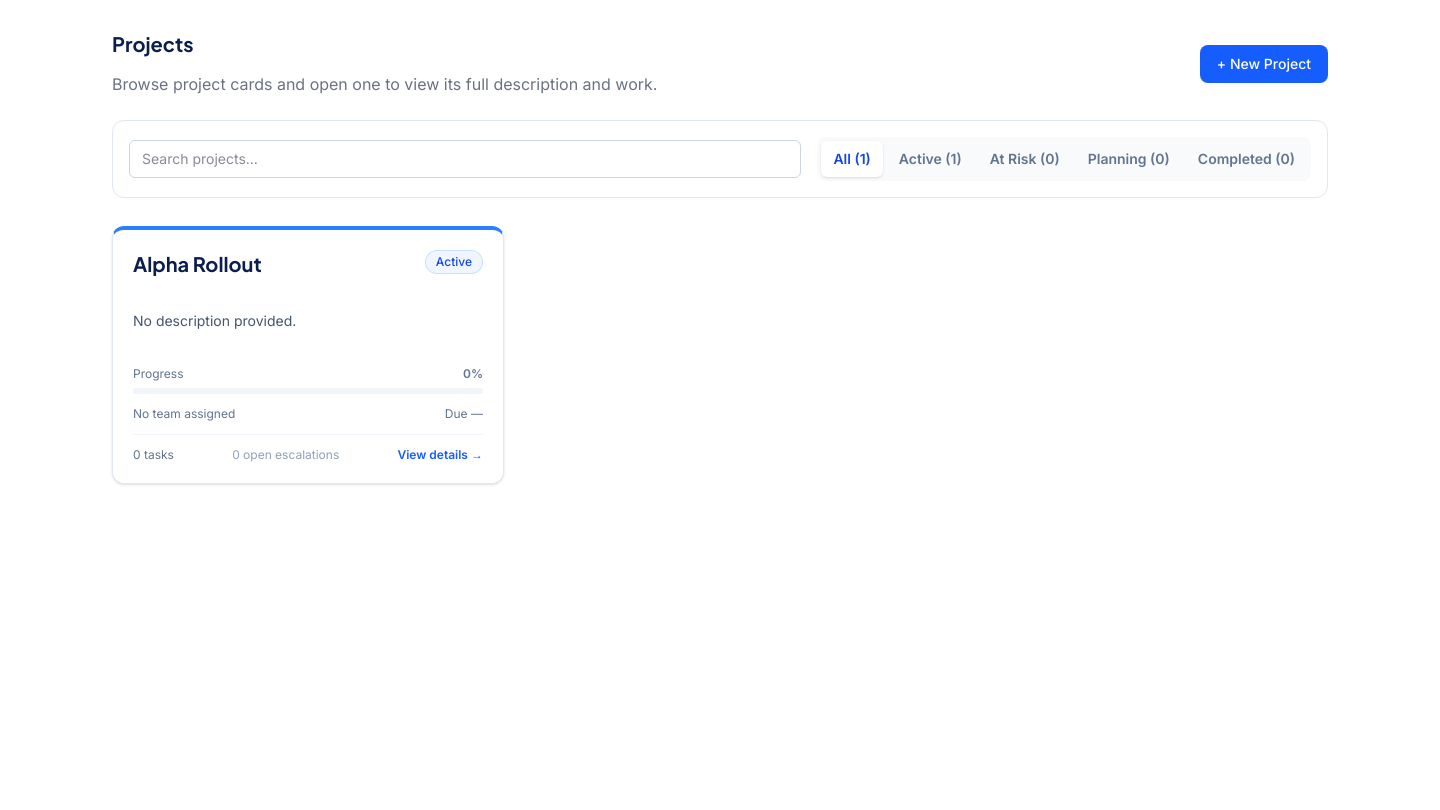
Test: PM Projects: create project, then start its workflow › creates a project without a template and never starts a workflow
Click the button "+ New Project" at (1264, 64), box [1200,45,1328,83]
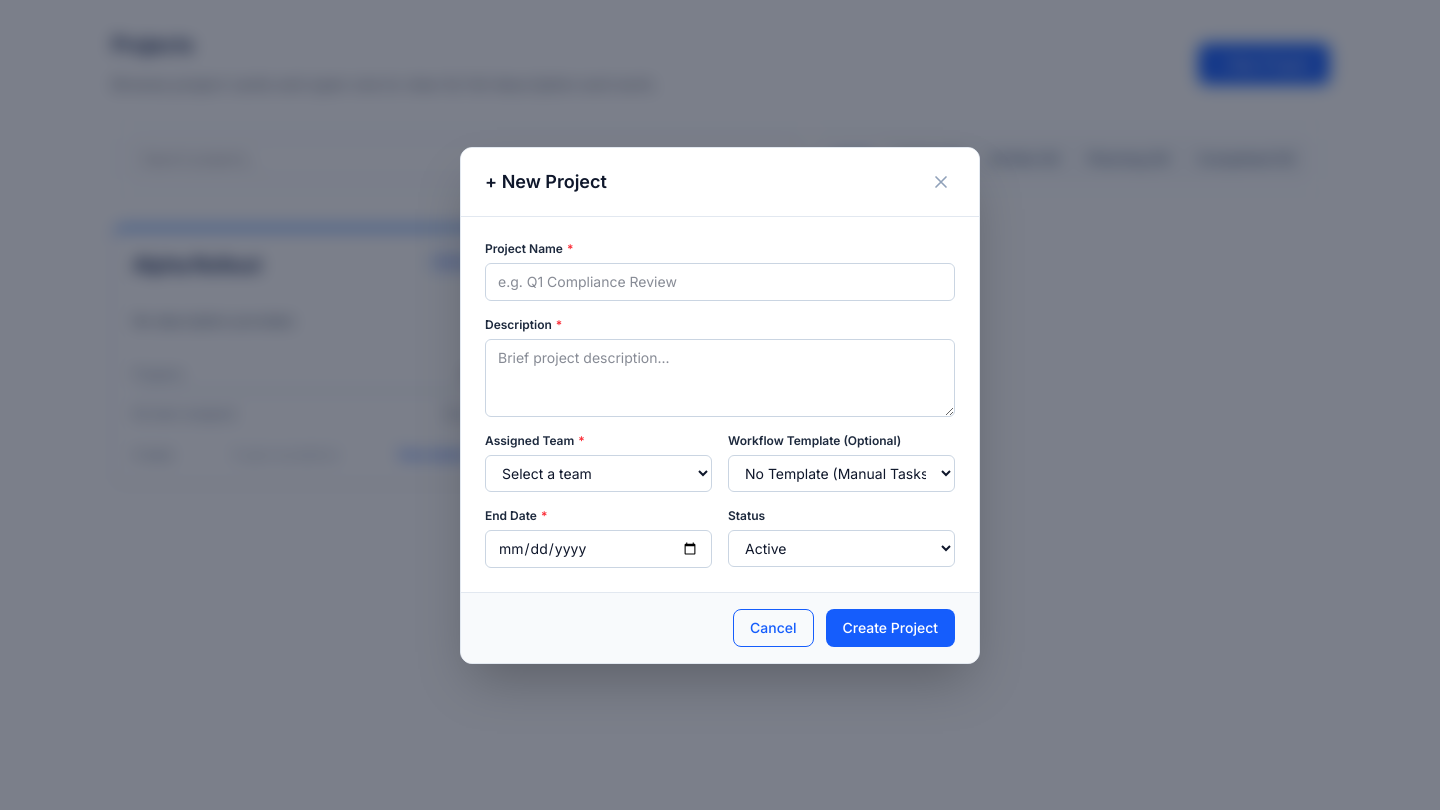
Type "Beta Launch" into the field with placeholder "e.g. Q1 Compliance Review" at (720, 282), box [485,262,955,300]
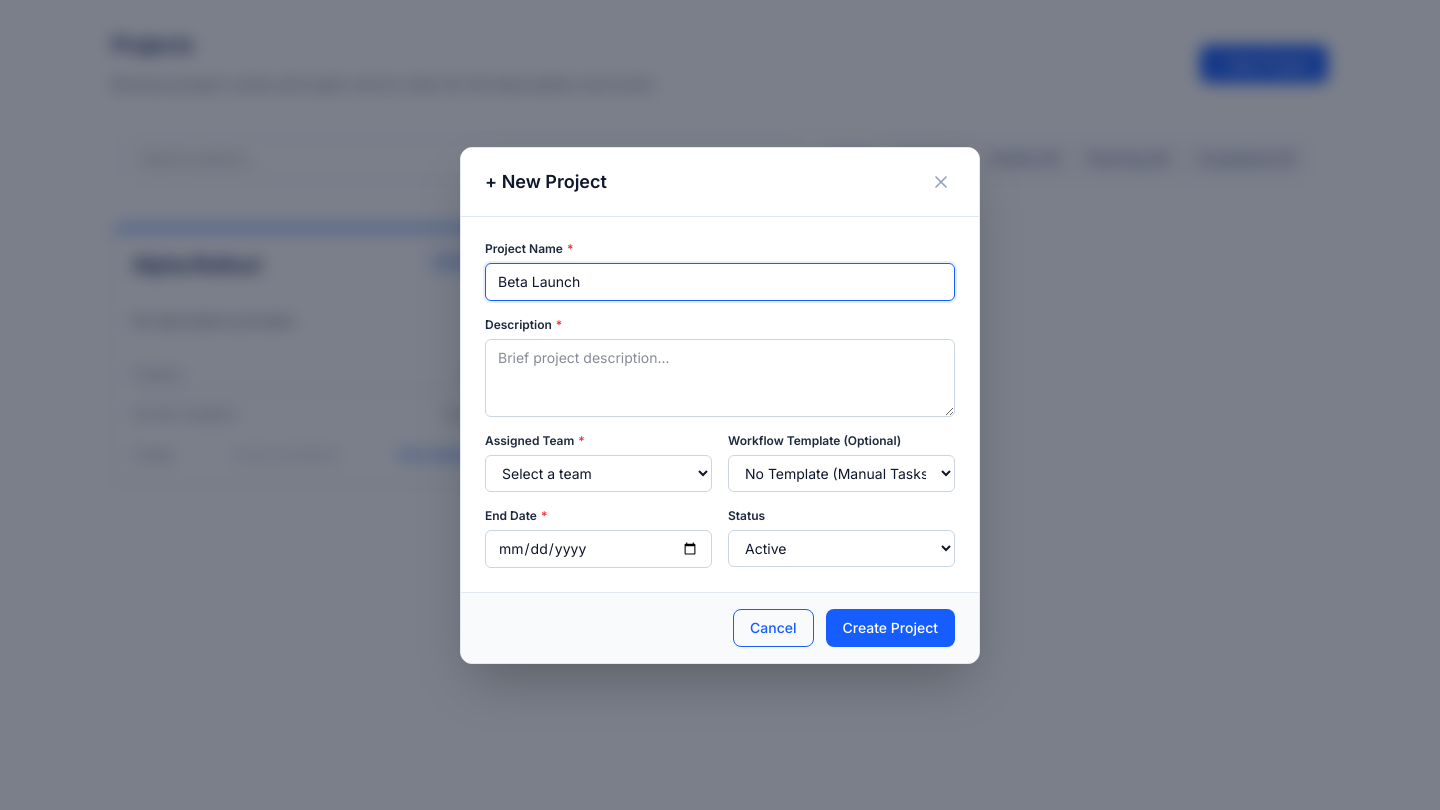
Type "Launch the beta to pilots" into the text box with placeholder "Brief project description..." at (720, 378), box [485,338,955,416]
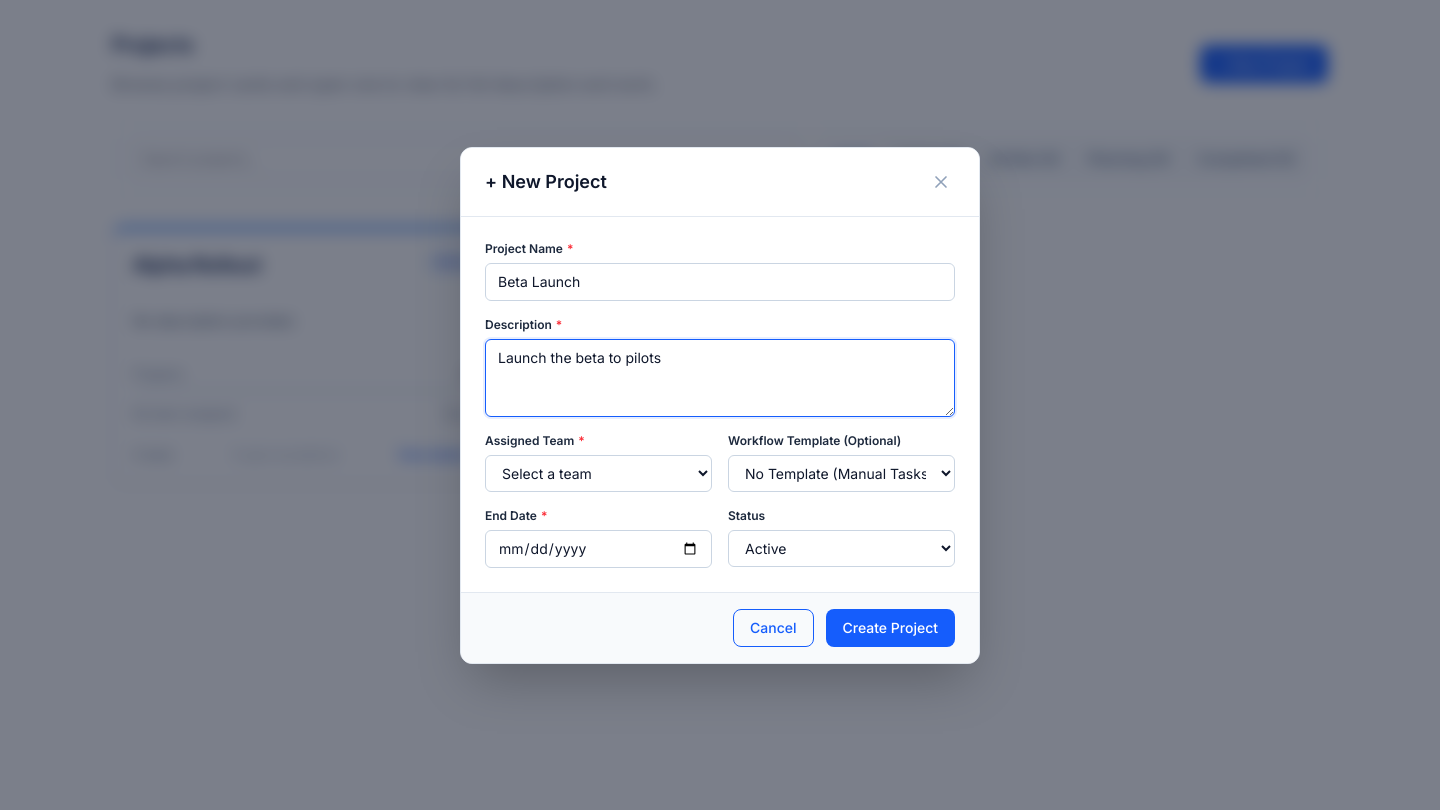
Select "Platform Squad" in the dropdown showing "Select a team" below "Assigned Team" at (598, 473), box [485,454,712,492]
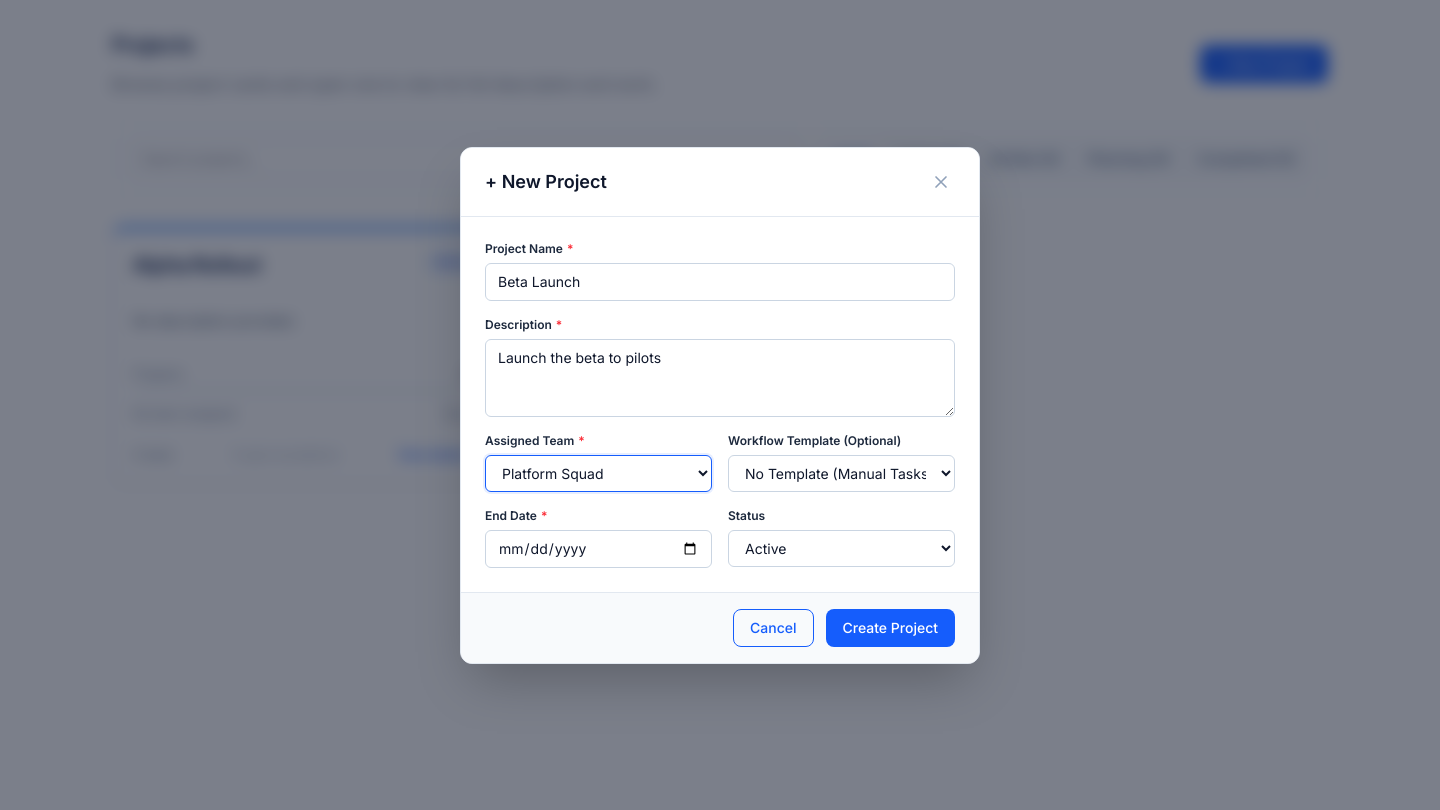
Type "2027-01-31" into the date field at (598, 548), box [485,530,712,568]
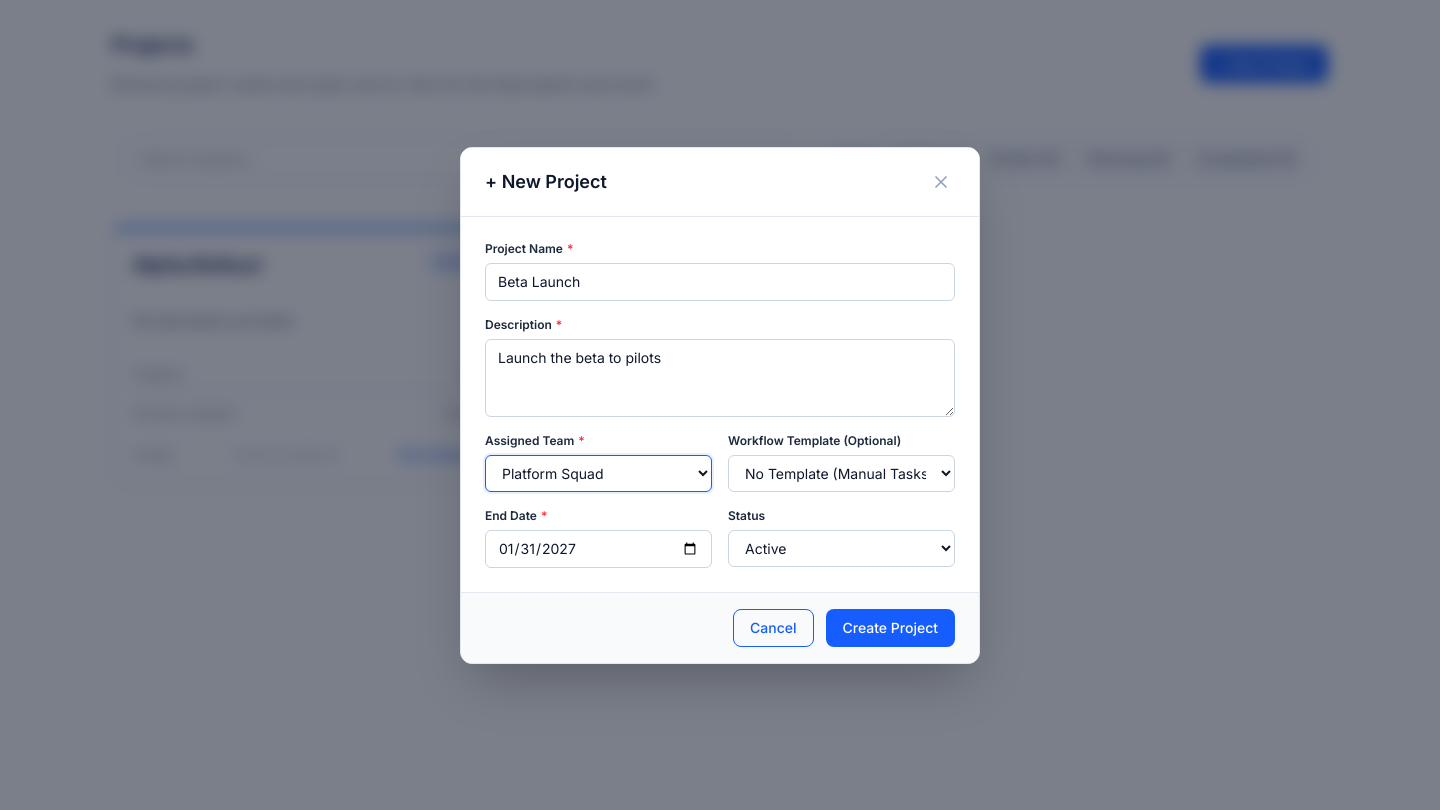
Click the button "Create Project" at (890, 628), box [826,608,955,646]
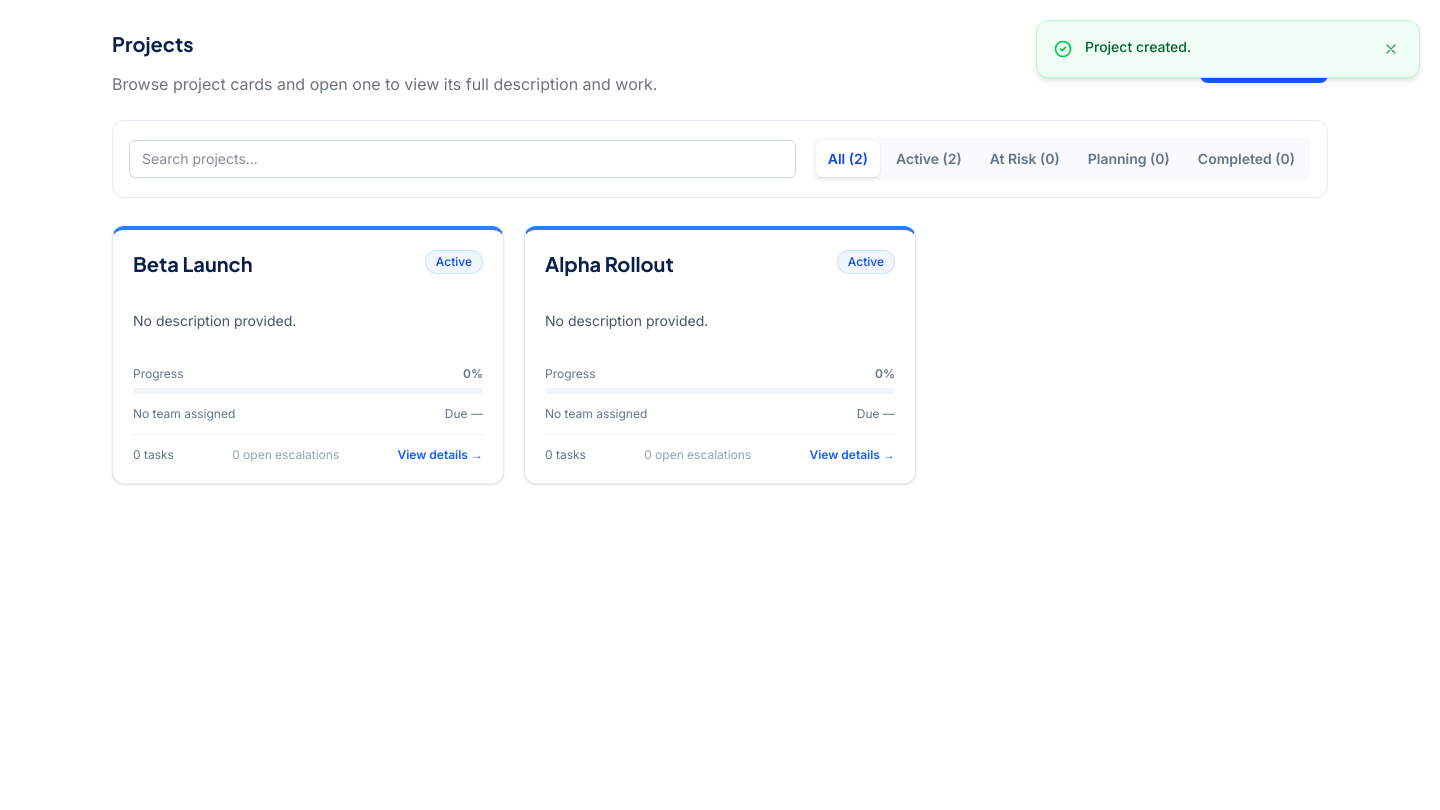
Expected: the text "Project created." is shown, [1085,38,1191,55]
